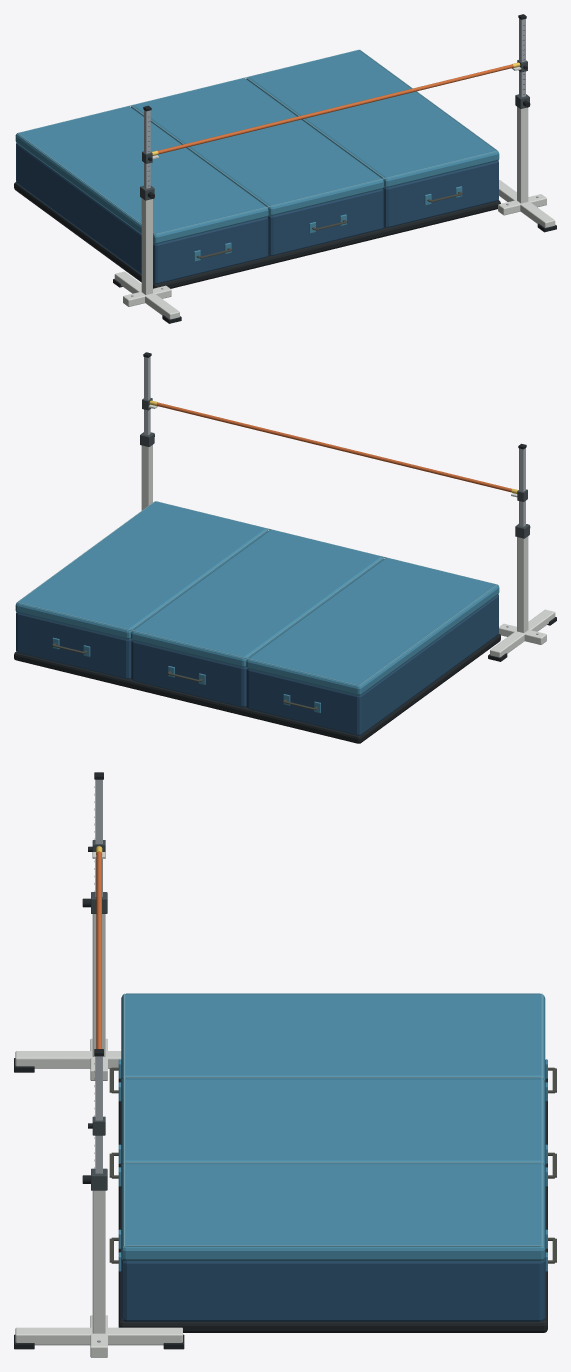
Rendered from city-high-jump-set.glb.
The picture shows the model from 3 angles, top to bottom: view 1: azimuth 30°, elevation 25°; view 2: azimuth 150°, elevation 25°; view 3: azimuth 270°, elevation 25°; orthographic projection. The views are drawn at different scales.
Parts seen in each view (by area): view 1: Assembly | Landing mat muted azure top, Assembly | Landing mat dark blue sides, Assembly | Warm light frame coating, Assembly | Dark rubber foot pads, Assembly | Landing mat light blue piping, Assembly | Target burnt orange annulus, Assembly | Satin small metal fittings, Assembly | Powder-coated graphite steel; view 2: Assembly | Landing mat muted azure top, Assembly | Landing mat dark blue sides, Assembly | Dark rubber foot pads, Assembly | Warm light frame coating, Assembly | Landing mat light blue piping, Assembly | Target burnt orange annulus, Assembly | Satin small metal fittings, Assembly | Powder-coated graphite steel; view 3: Assembly | Landing mat muted azure top, Assembly | Landing mat dark blue sides, Assembly | Warm light frame coating, Assembly | Dark rubber foot pads, Assembly | Landing mat light blue piping, Assembly | Satin small metal fittings, Assembly | Target burnt orange annulus, Assembly | Powder-coated graphite steel, Assembly | Dark woven strap appearance.
Part boxes in pixels (x1,y1,x2,y2): Assembly | Landing mat muted azure top: [15, 50, 499, 261]; Assembly | Landing mat dark blue sides: [16, 143, 498, 284]; Assembly | Warm light frame coating: [114, 66, 555, 319]; Assembly | Dark rubber foot pads: [14, 14, 556, 323]; Assembly | Landing mat light blue piping: [17, 49, 497, 234]; Assembly | Target burnt orange annulus: [157, 64, 513, 154]; Assembly | Satin small metal fittings: [131, 18, 538, 296]; Assembly | Powder-coated graphite steel: [140, 25, 529, 200]; Assembly | Landing mat muted azure top: [15, 501, 499, 713]; Assembly | Landing mat dark blue sides: [16, 595, 498, 735]; Assembly | Dark rubber foot pads: [14, 352, 556, 743]; Assembly | Warm light frame coating: [141, 404, 555, 657]; Assembly | Landing mat light blue piping: [17, 501, 497, 686]; Assembly | Target burnt orange annulus: [156, 402, 511, 492]; Assembly | Satin small metal fittings: [144, 356, 538, 634]; Assembly | Powder-coated graphite steel: [140, 398, 529, 538]; Assembly | Landing mat muted azure top: [118, 994, 547, 1271]; Assembly | Landing mat dark blue sides: [121, 1258, 545, 1321]; Assembly | Warm light frame coating: [15, 852, 182, 1357]; Assembly | Dark rubber foot pads: [14, 772, 547, 1349]; Assembly | Landing mat light blue piping: [123, 993, 542, 1246]; Assembly | Satin small metal fittings: [95, 779, 102, 1342]; Assembly | Target burnt orange annulus: [96, 851, 101, 1048]; Assembly | Powder-coated graphite steel: [91, 786, 107, 1190]; Assembly | Dark woven strap appearance: [109, 1067, 556, 1263].
Size of the model in its own units: 4.9 by 2.18 by 3.64.
